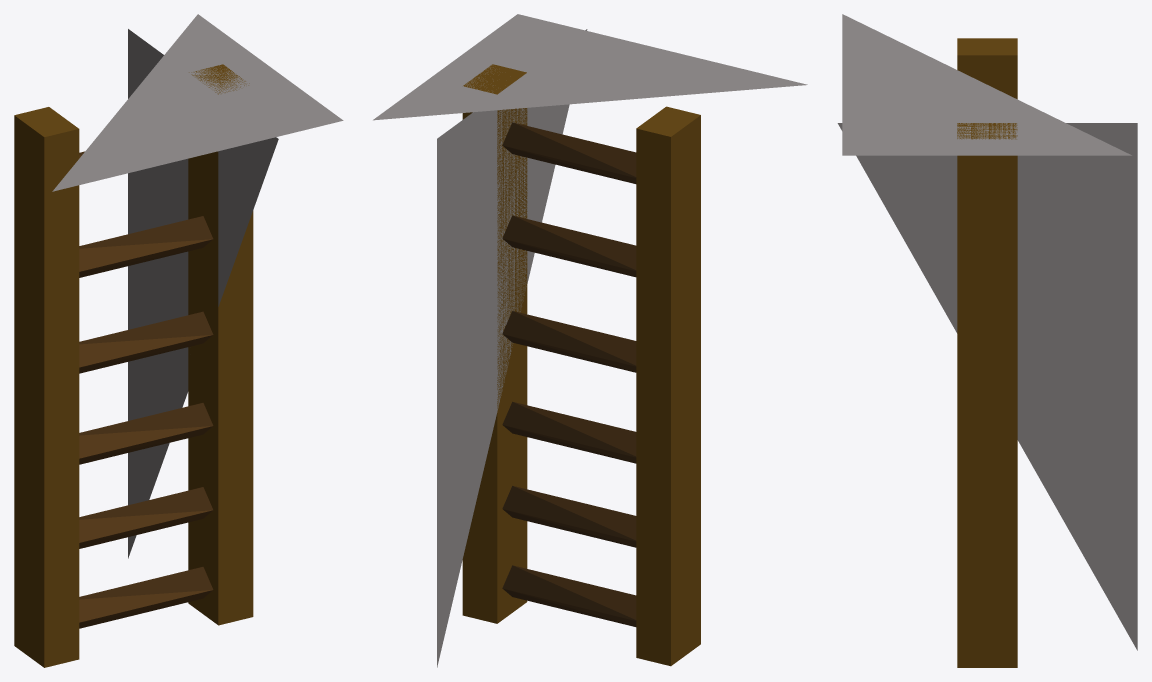
The model's file is ladder.obj.
3 views of the same model, side by side, from view 1: azimuth 30°, elevation 25°; view 2: azimuth 150°, elevation 25°; view 3: azimuth 270°, elevation 25° (orthographic).
Visible parts, largest first — view 1: Object Ladder 2026-09-13_16-36-42; view 2: Object Ladder 2026-09-13_16-36-42; view 3: Object Ladder 2026-09-13_16-36-42.
Part boxes in pixels (x1=…): Object Ladder 2026-09-13_16-36-42: x1=14, y1=14, x2=343, y2=667; Object Ladder 2026-09-13_16-36-42: x1=373, y1=14, x2=807, y2=667; Object Ladder 2026-09-13_16-36-42: x1=837, y1=14, x2=1137, y2=667.
Size of the model in its own units: 134 by 233 by 120.
